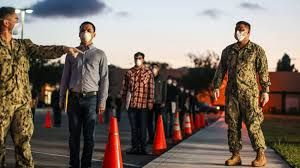uniform: (218, 40, 270, 156), (1, 34, 48, 159)
